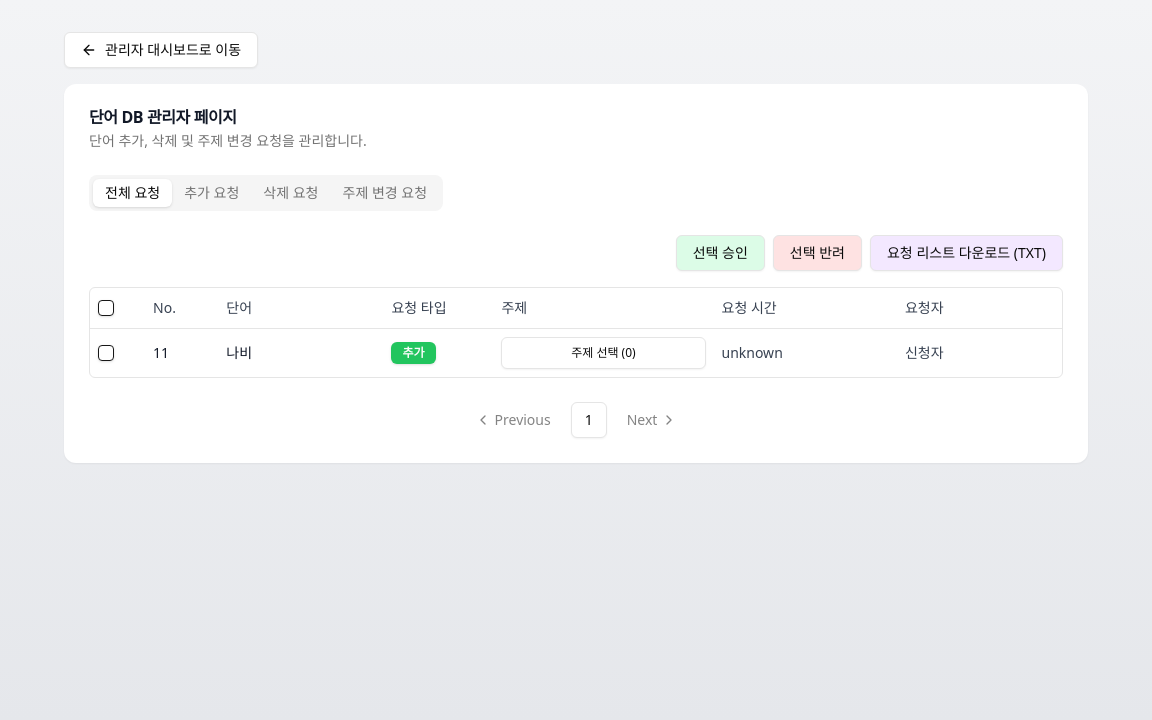
it: AdminRequestHome › conflict 실패는 선택을 유지하고 안전한 메시지만 보여준다
What coordinates should you click on to do the following:
click the checkbox named "나비 선택"
I would click on:
 (106, 352)
Its box is 98,344 -> 114,360.
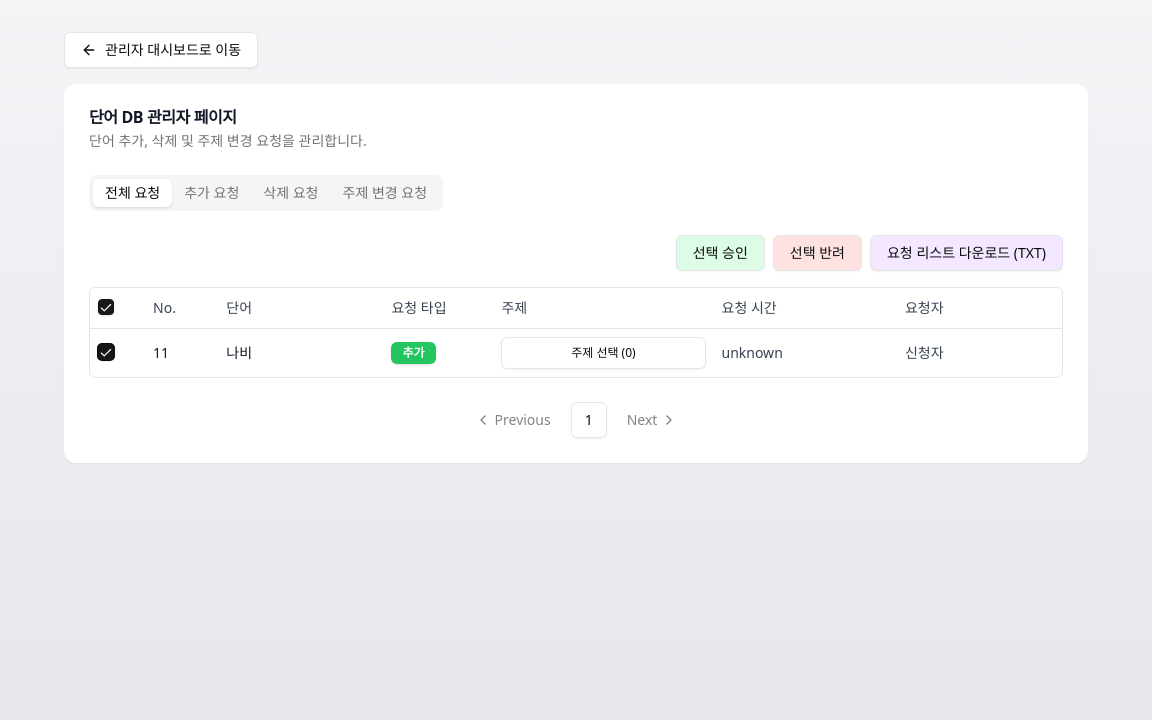
What coordinates should you click on to do the following:
click the button "선택 승인"
I would click on:
 (720, 253)
Its box is 676,235 -> 765,271.
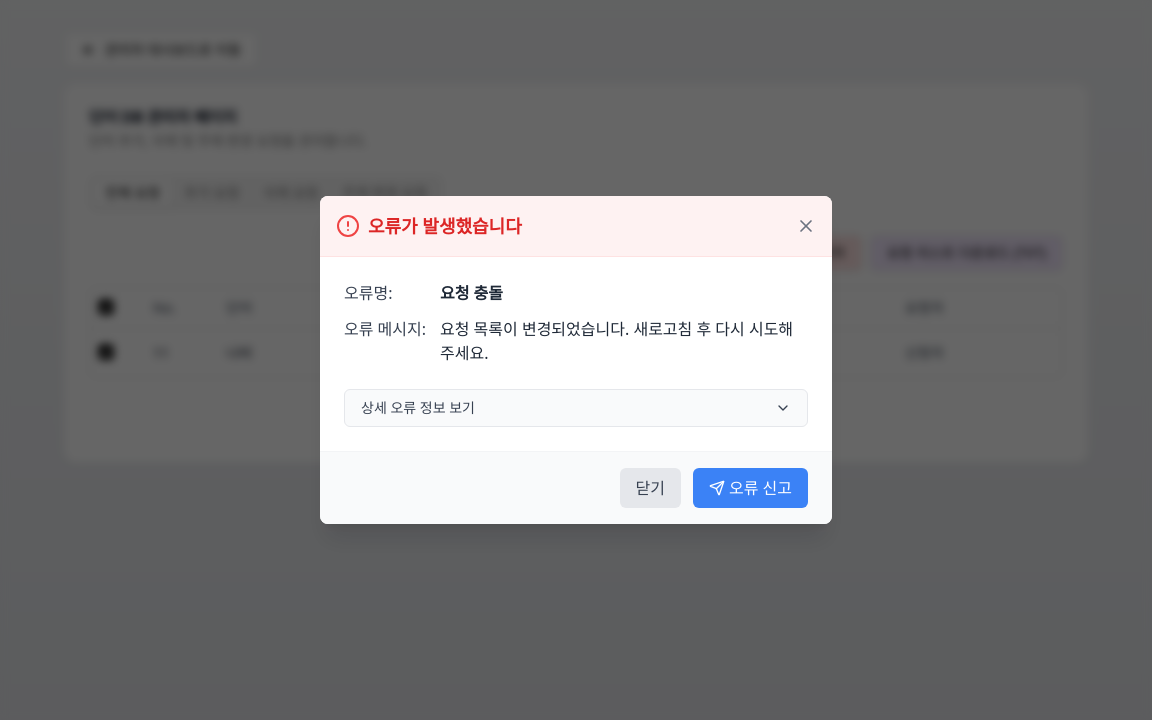
Check: the checkbox named "나비 선택" is checked, box 98,344 -> 114,360
Check: the text "요청 목록이 변경되었습니다. 새로고침 후 다시 시도해 주세요." is shown, box 440,317 -> 808,365
